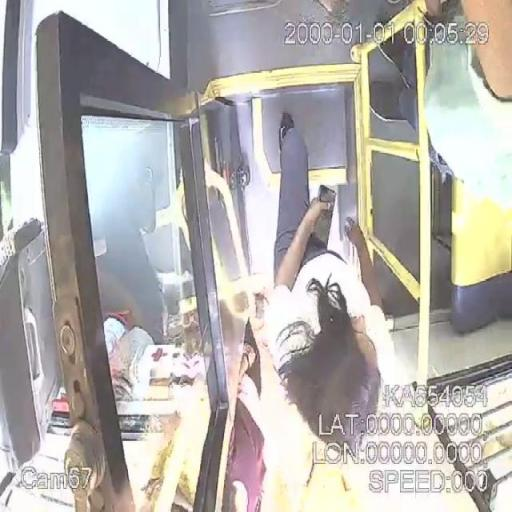persona: (263, 110, 397, 460)
